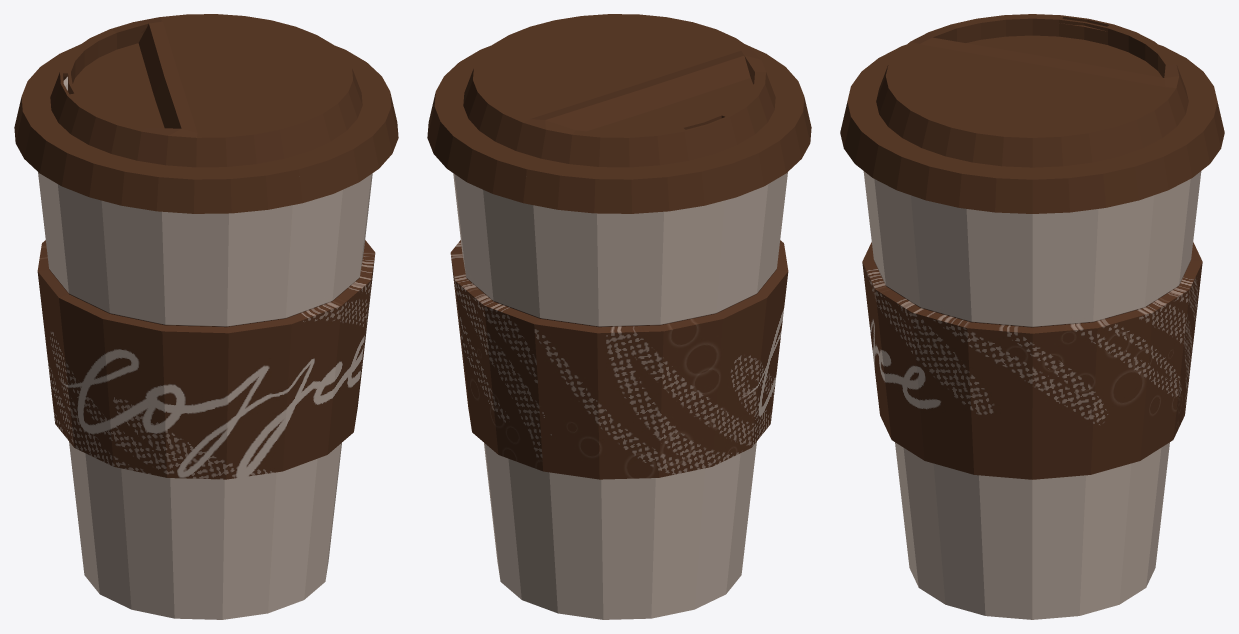
The model's file is coffeecup.fbx.
3 views of the same model, side by side, from view 1: azimuth 30°, elevation 25°; view 2: azimuth 150°, elevation 25°; view 3: azimuth 270°, elevation 25° (orthographic).
Parts seen in each view (by area): view 1: Cylinder, Circle; view 2: Cylinder, Circle; view 3: Cylinder, Circle.
Boxes of the visible parts, left/top/right/bottom form: Cylinder: left=37, top=76, right=375, bottom=619; Circle: left=14, top=14, right=398, bottom=213; Cylinder: left=450, top=172, right=788, bottom=619; Circle: left=427, top=14, right=811, bottom=213; Cylinder: left=862, top=171, right=1202, bottom=619; Circle: left=840, top=14, right=1224, bottom=213.
Bounding box in the file's own units: 190 × 269 × 190.
Materials: 2 (1 with a texture image).
